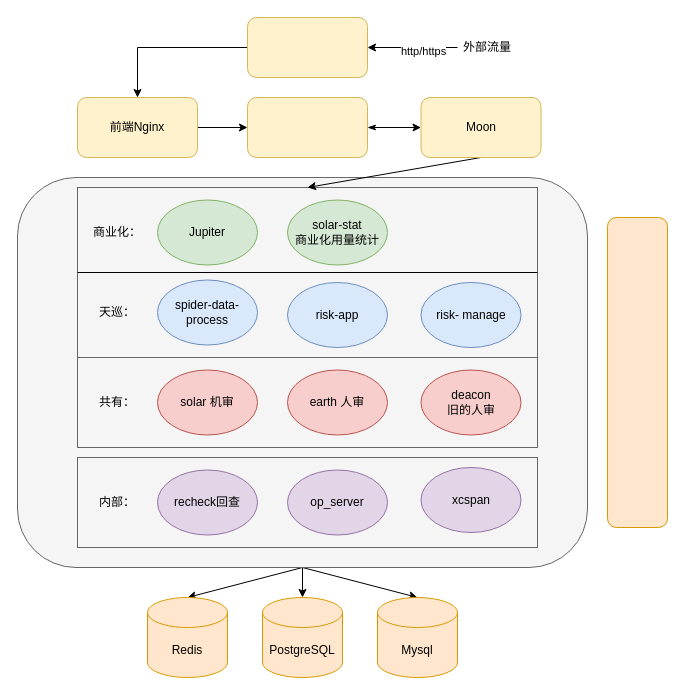
The diagram is 685 pixels wide and 695 high, and some of its shapes have lost their labels. Here are the shapes that lost their labels. From the top down, the centre of each, then its label:
point 307,47: 运维配置-负载均衡/防火墙
point 307,127: API-SIX
point 637,372: Kafka
